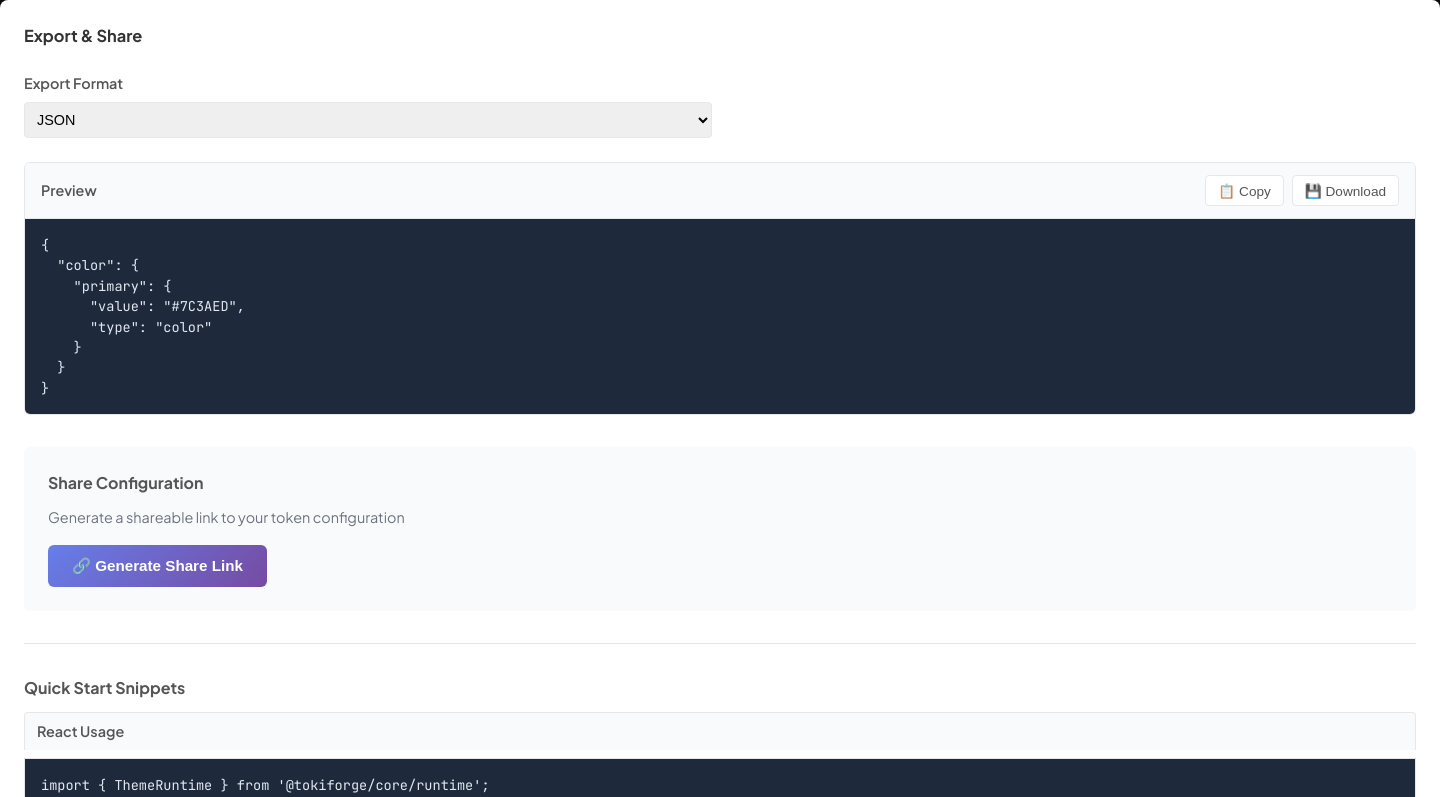
Test case: ExportShare › changes export format
Select "CSS Variables" in the dropdown at (368, 120), box x1=24 y1=102 x2=712 y2=138
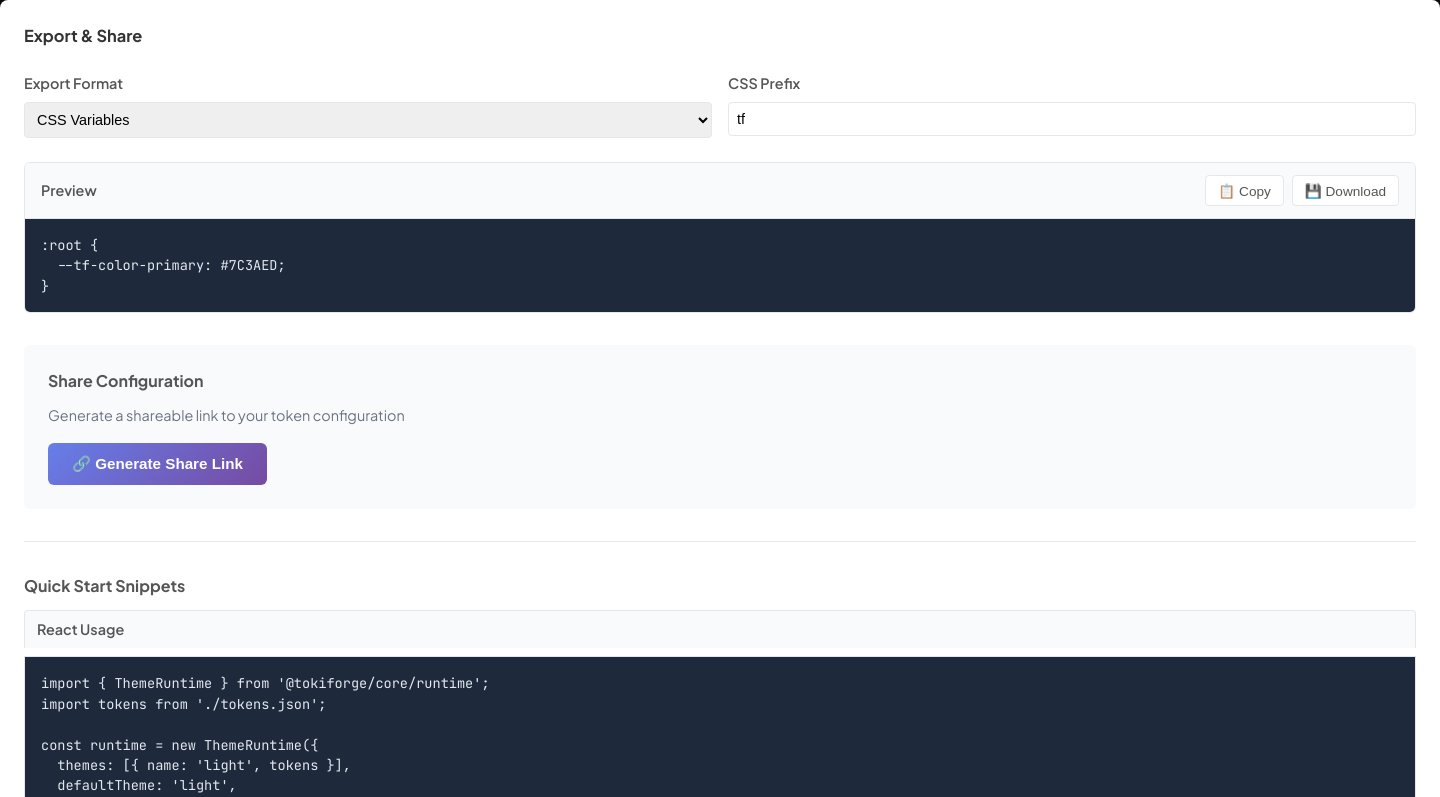
Result: the text "CSS Prefix" is shown at x1=728 y1=74 x2=800 y2=92
